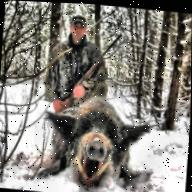boar: (34, 85, 164, 192)
